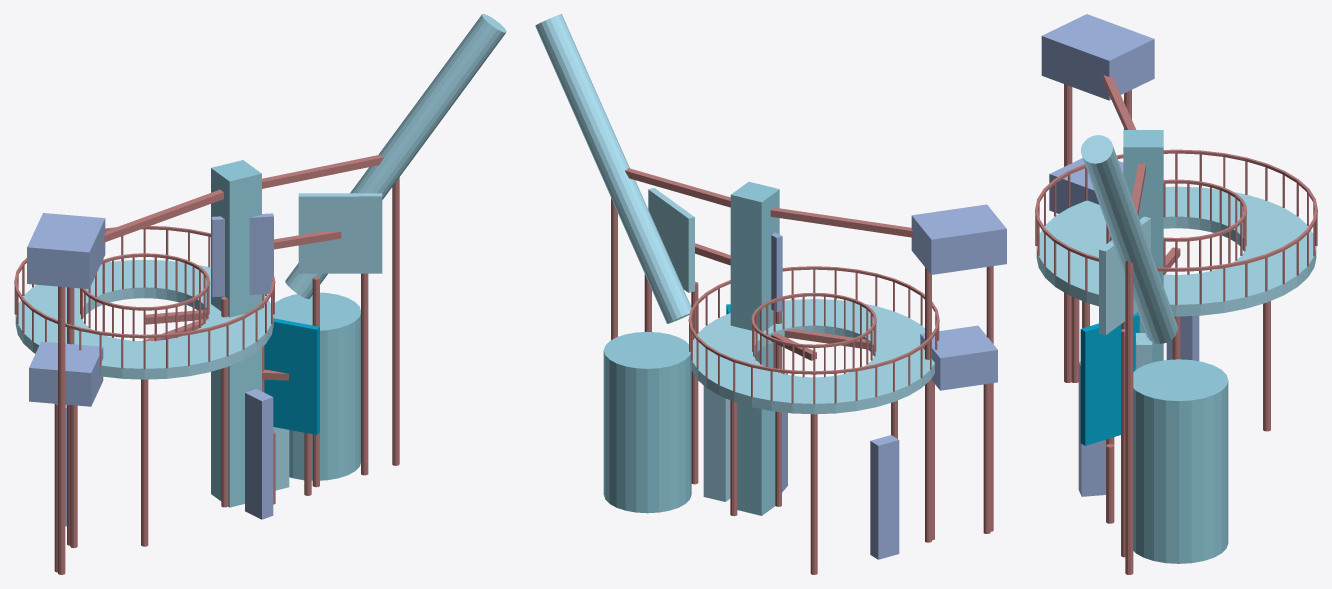
Rendered from folie_tag_012.glb.
3 views of the same model, side by side, from view 1: azimuth 30°, elevation 25°; view 2: azimuth 150°, elevation 25°; view 3: azimuth 270°, elevation 25° (orthographic). The views are drawn at different scales.
Parts seen in each view (by area): view 1: folie_tag_012_line, folie_tag_012_00_ring, folie_tag_012_core, folie_tag_012_01_drum, folie_tag_012_02_tube, folie_tag_012_05_panel, folie_tag_012_06_panel, folie_tag_012_03_block, folie_tag_012_09_block, folie_tag_012_10_fin, folie_tag_012_08_panel, folie_tag_012_04_fin; view 2: folie_tag_012_line, folie_tag_012_00_ring, folie_tag_012_01_drum, folie_tag_012_core, folie_tag_012_02_tube, folie_tag_012_03_block, folie_tag_012_09_block, folie_tag_012_07_fin, folie_tag_012_04_fin, folie_tag_012_05_panel, folie_tag_012_08_panel; view 3: folie_tag_012_01_drum, folie_tag_012_line, folie_tag_012_00_ring, folie_tag_012_03_block, folie_tag_012_02_tube, folie_tag_012_06_panel, folie_tag_012_core, folie_tag_012_05_panel, folie_tag_012_10_fin, folie_tag_012_09_block, folie_tag_012_07_fin, folie_tag_012_04_fin.
Boxes of the visible parts, left/top/right/bottom form: folie_tag_012_line: left=14, top=154, right=399, bottom=574; folie_tag_012_00_ring: left=15, top=260, right=273, bottom=379; folie_tag_012_core: left=211, top=160, right=261, bottom=507; folie_tag_012_01_drum: left=273, top=292, right=360, bottom=480; folie_tag_012_02_tube: left=285, top=14, right=506, bottom=298; folie_tag_012_05_panel: left=298, top=193, right=382, bottom=273; folie_tag_012_06_panel: left=264, top=318, right=319, bottom=434; folie_tag_012_03_block: left=27, top=213, right=105, bottom=288; folie_tag_012_09_block: left=29, top=341, right=103, bottom=406; folie_tag_012_10_fin: left=245, top=389, right=273, bottom=519; folie_tag_012_08_panel: left=211, top=213, right=273, bottom=297; folie_tag_012_04_fin: left=273, top=427, right=289, bottom=490; folie_tag_012_line: left=611, top=168, right=993, bottom=574; folie_tag_012_00_ring: left=690, top=299, right=934, bottom=414; folie_tag_012_01_drum: left=603, top=331, right=691, bottom=513; folie_tag_012_core: left=730, top=181, right=779, bottom=515; folie_tag_012_02_tube: left=535, top=14, right=693, bottom=323; folie_tag_012_03_block: left=911, top=204, right=1006, bottom=274; folie_tag_012_09_block: left=920, top=325, right=997, bottom=390; folie_tag_012_07_fin: left=870, top=435, right=899, bottom=559; folie_tag_012_04_fin: left=703, top=385, right=730, bottom=501; folie_tag_012_05_panel: left=648, top=188, right=694, bottom=292; folie_tag_012_08_panel: left=771, top=232, right=782, bottom=312; folie_tag_012_01_drum: left=1133, top=359, right=1228, bottom=563; folie_tag_012_line: left=1035, top=75, right=1317, bottom=574; folie_tag_012_00_ring: left=1036, top=186, right=1316, bottom=316; folie_tag_012_03_block: left=1041, top=14, right=1154, bottom=100; folie_tag_012_02_tube: left=1081, top=135, right=1177, bottom=343; folie_tag_012_06_panel: left=1080, top=313, right=1139, bottom=445; folie_tag_012_core: left=1123, top=130, right=1163, bottom=362; folie_tag_012_05_panel: left=1099, top=216, right=1150, bottom=334; folie_tag_012_10_fin: left=1078, top=361, right=1105, bottom=496; folie_tag_012_09_block: left=1049, top=158, right=1123, bottom=213; folie_tag_012_07_fin: left=1166, top=315, right=1199, bottom=361; folie_tag_012_04_fin: left=1135, top=333, right=1152, bottom=369.
Size of the model in its own units: 16.41 by 14.28 by 7.68.
